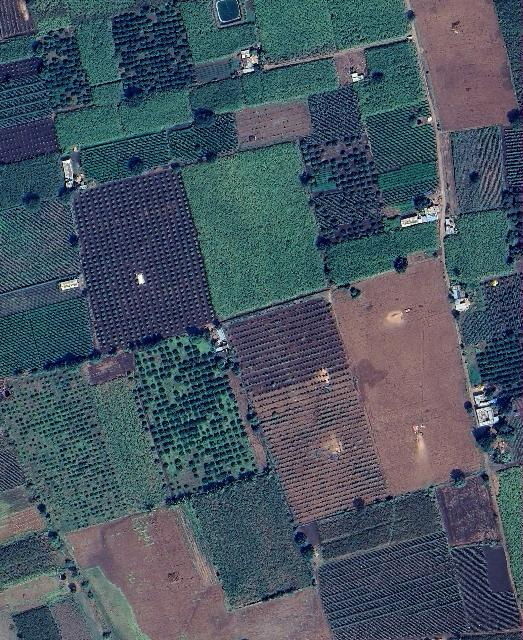EmptyFarms: (328, 255, 491, 498), (66, 507, 326, 640), (410, 0, 522, 131)
Farms: (224, 296, 391, 528), (70, 166, 214, 356), (184, 137, 329, 325), (129, 323, 262, 499), (187, 470, 317, 608), (255, 0, 414, 67), (54, 87, 193, 152), (0, 293, 95, 378)
water: (213, 0, 250, 32)
